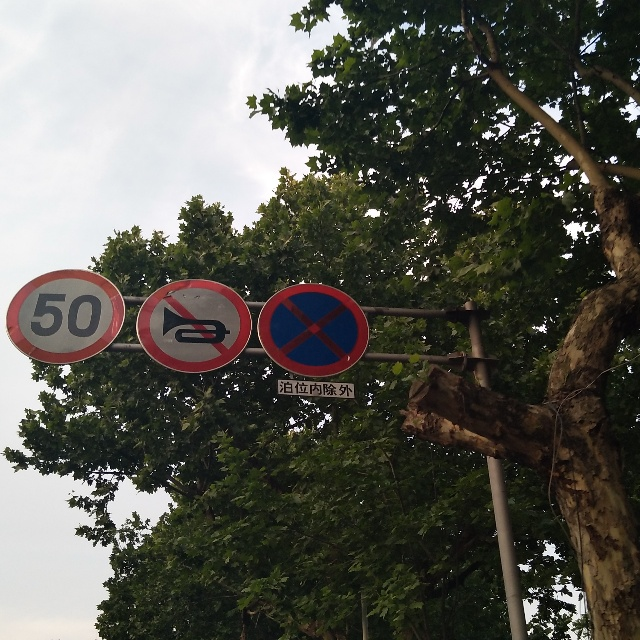nohonk: (136, 279, 252, 374)
stop: (254, 279, 372, 380)
